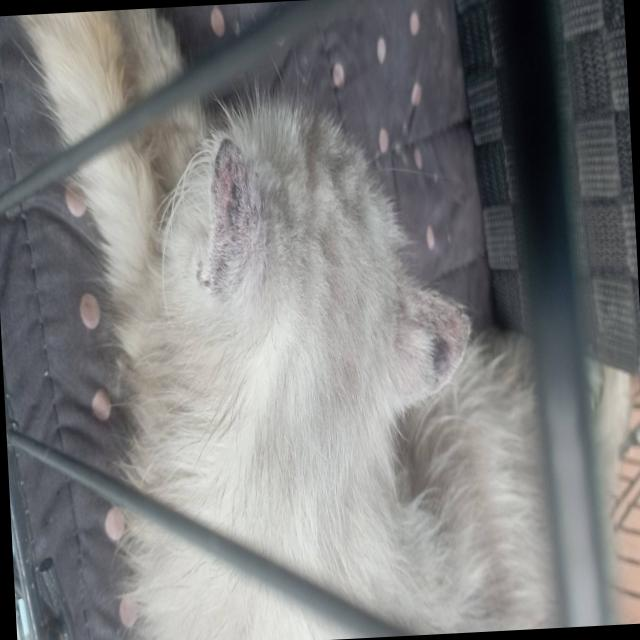Mange: (211, 156, 243, 228), (432, 304, 463, 368), (402, 354, 427, 390)
